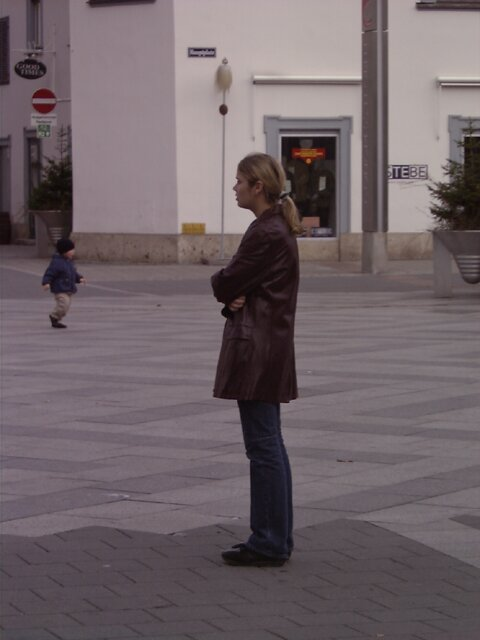person: (210, 145, 316, 569), (38, 233, 92, 331)
